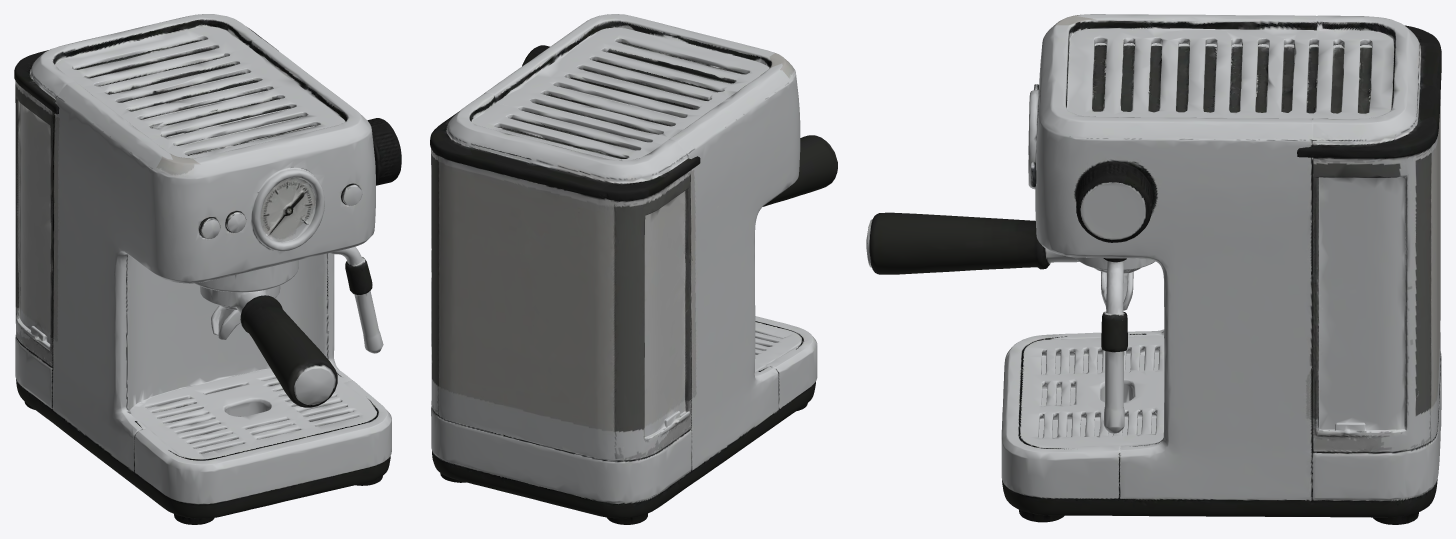
The model's file is espresso.glb.
3 renders of one model, left to right at view 1: azimuth 30°, elevation 25°; view 2: azimuth 150°, elevation 25°; view 3: azimuth 270°, elevation 25°, orthographic. The views are drawn at different scales.
Parts seen in each view (by area): view 1: tripo_node_740993a9-1ad1-4f02-b3bd-55c05508e4a9; view 2: tripo_node_740993a9-1ad1-4f02-b3bd-55c05508e4a9; view 3: tripo_node_740993a9-1ad1-4f02-b3bd-55c05508e4a9.
Part boxes in pixels (x1,y1,x2,y2): tripo_node_740993a9-1ad1-4f02-b3bd-55c05508e4a9: [14, 14, 401, 524]; tripo_node_740993a9-1ad1-4f02-b3bd-55c05508e4a9: [430, 14, 837, 524]; tripo_node_740993a9-1ad1-4f02-b3bd-55c05508e4a9: [866, 14, 1441, 524].
Bounding box in the file's own units: 0.2477 × 0.33 × 0.4306.
1 material, 1 textured.
